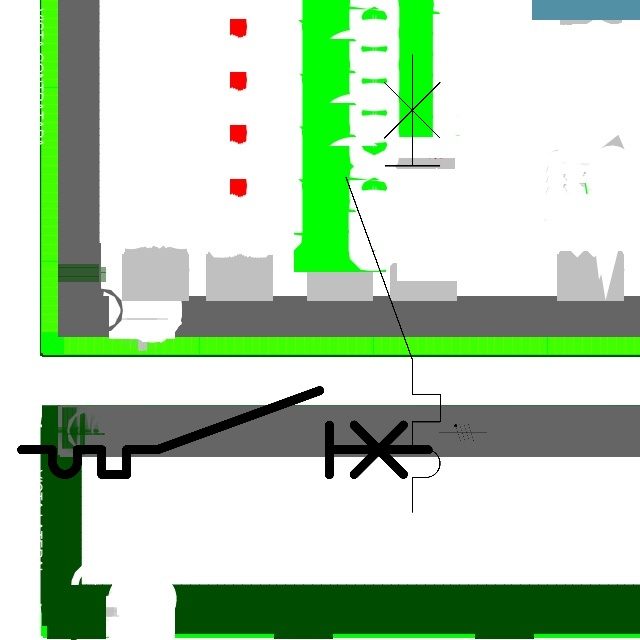interruptor_termomagnetico: (334, 43, 452, 524), (11, 380, 438, 485)
